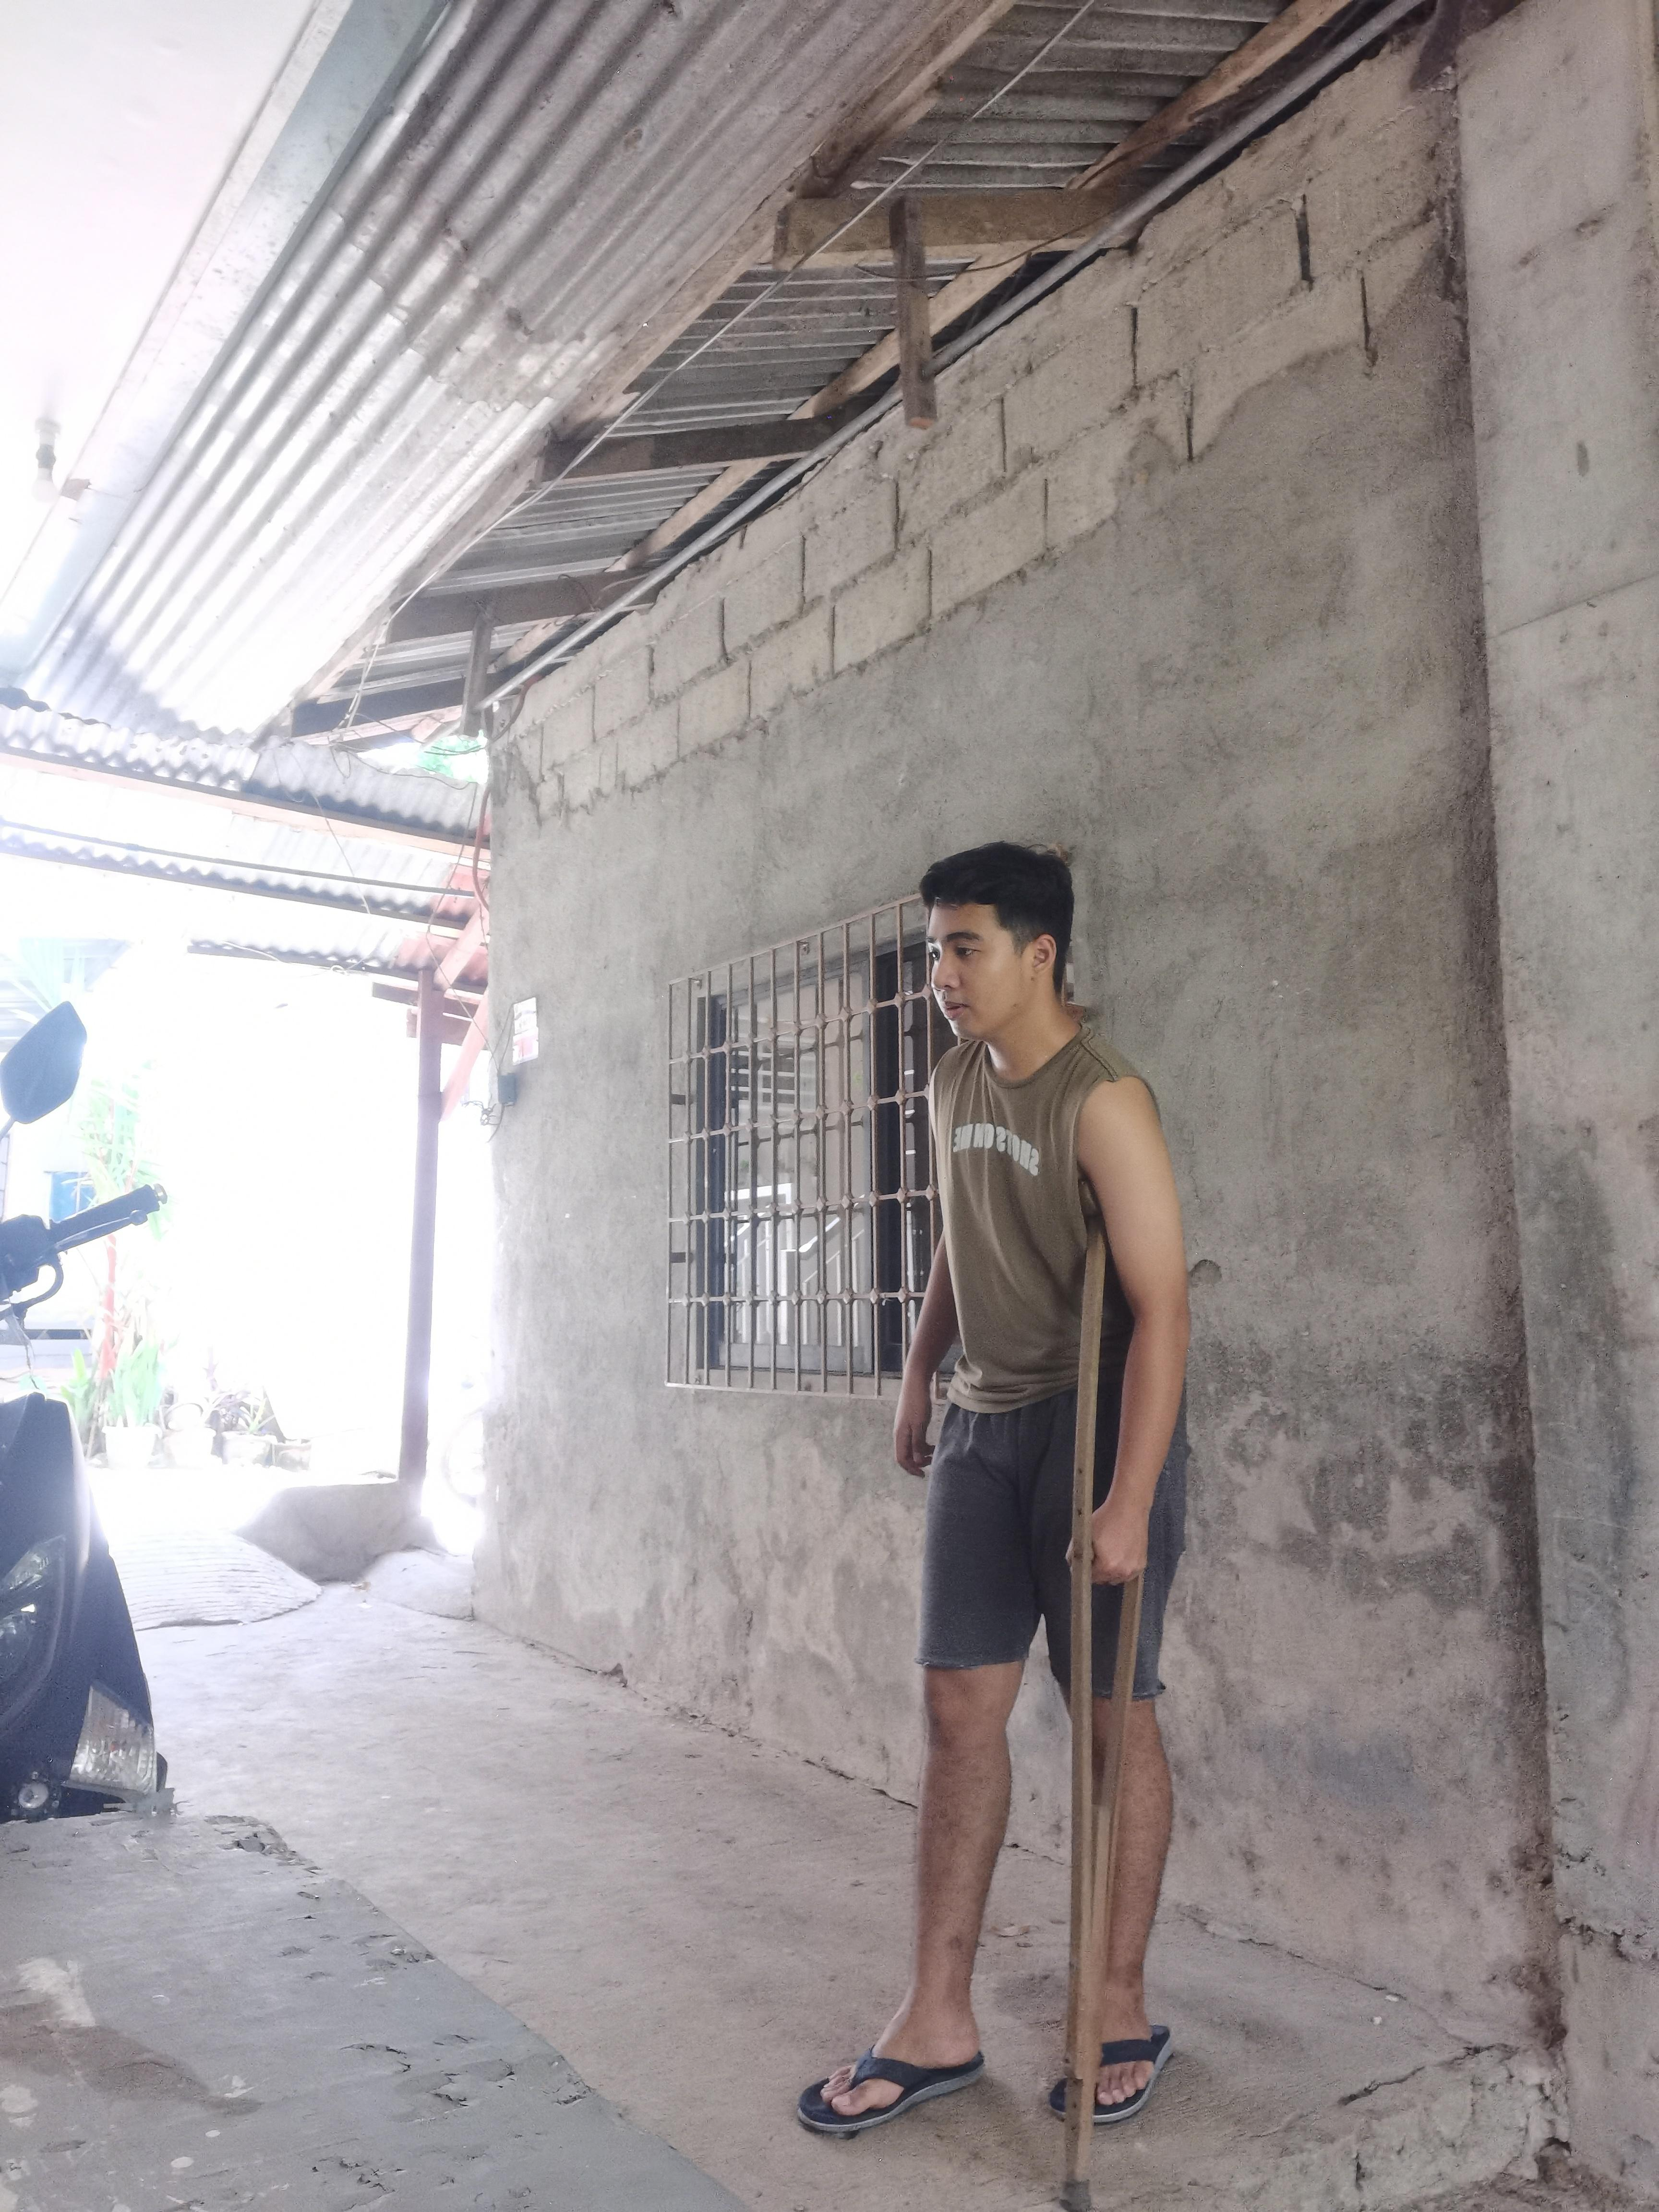crutches: (784, 817, 1209, 2212)
